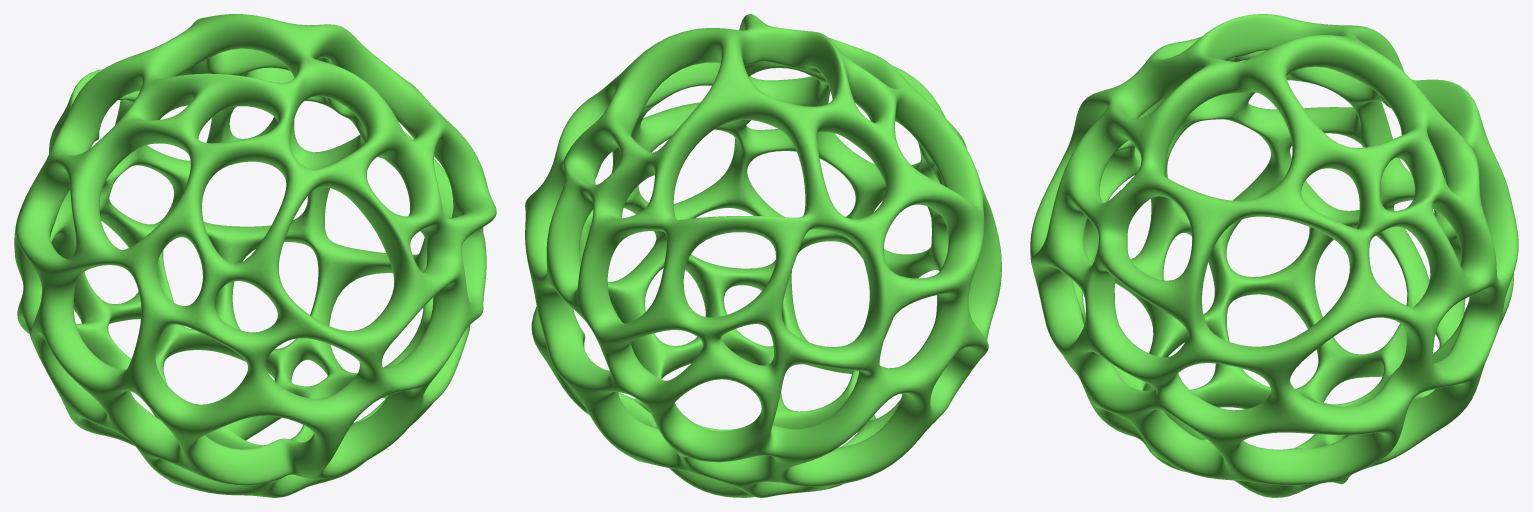
The model's file is abstract_00.fbx.
The picture shows the model from 3 angles, left to right: view 1: azimuth 30°, elevation 25°; view 2: azimuth 150°, elevation 25°; view 3: azimuth 270°, elevation 25°; orthographic projection.
Visible parts, largest first — view 1: VoronoiDyno.Bake; view 2: VoronoiDyno.Bake; view 3: VoronoiDyno.Bake.
Boxes of the visible parts, box(x1,y1,x2,y2) form: VoronoiDyno.Bake: box(14, 14, 496, 497); VoronoiDyno.Bake: box(525, 14, 1001, 497); VoronoiDyno.Bake: box(1030, 14, 1518, 497).
Size of the model in its own units: 187 by 190 by 185.
